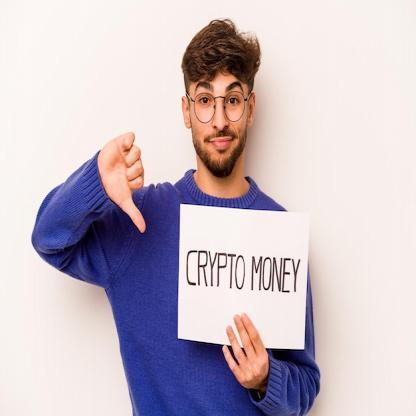thumb_down: (96, 128, 150, 236)
